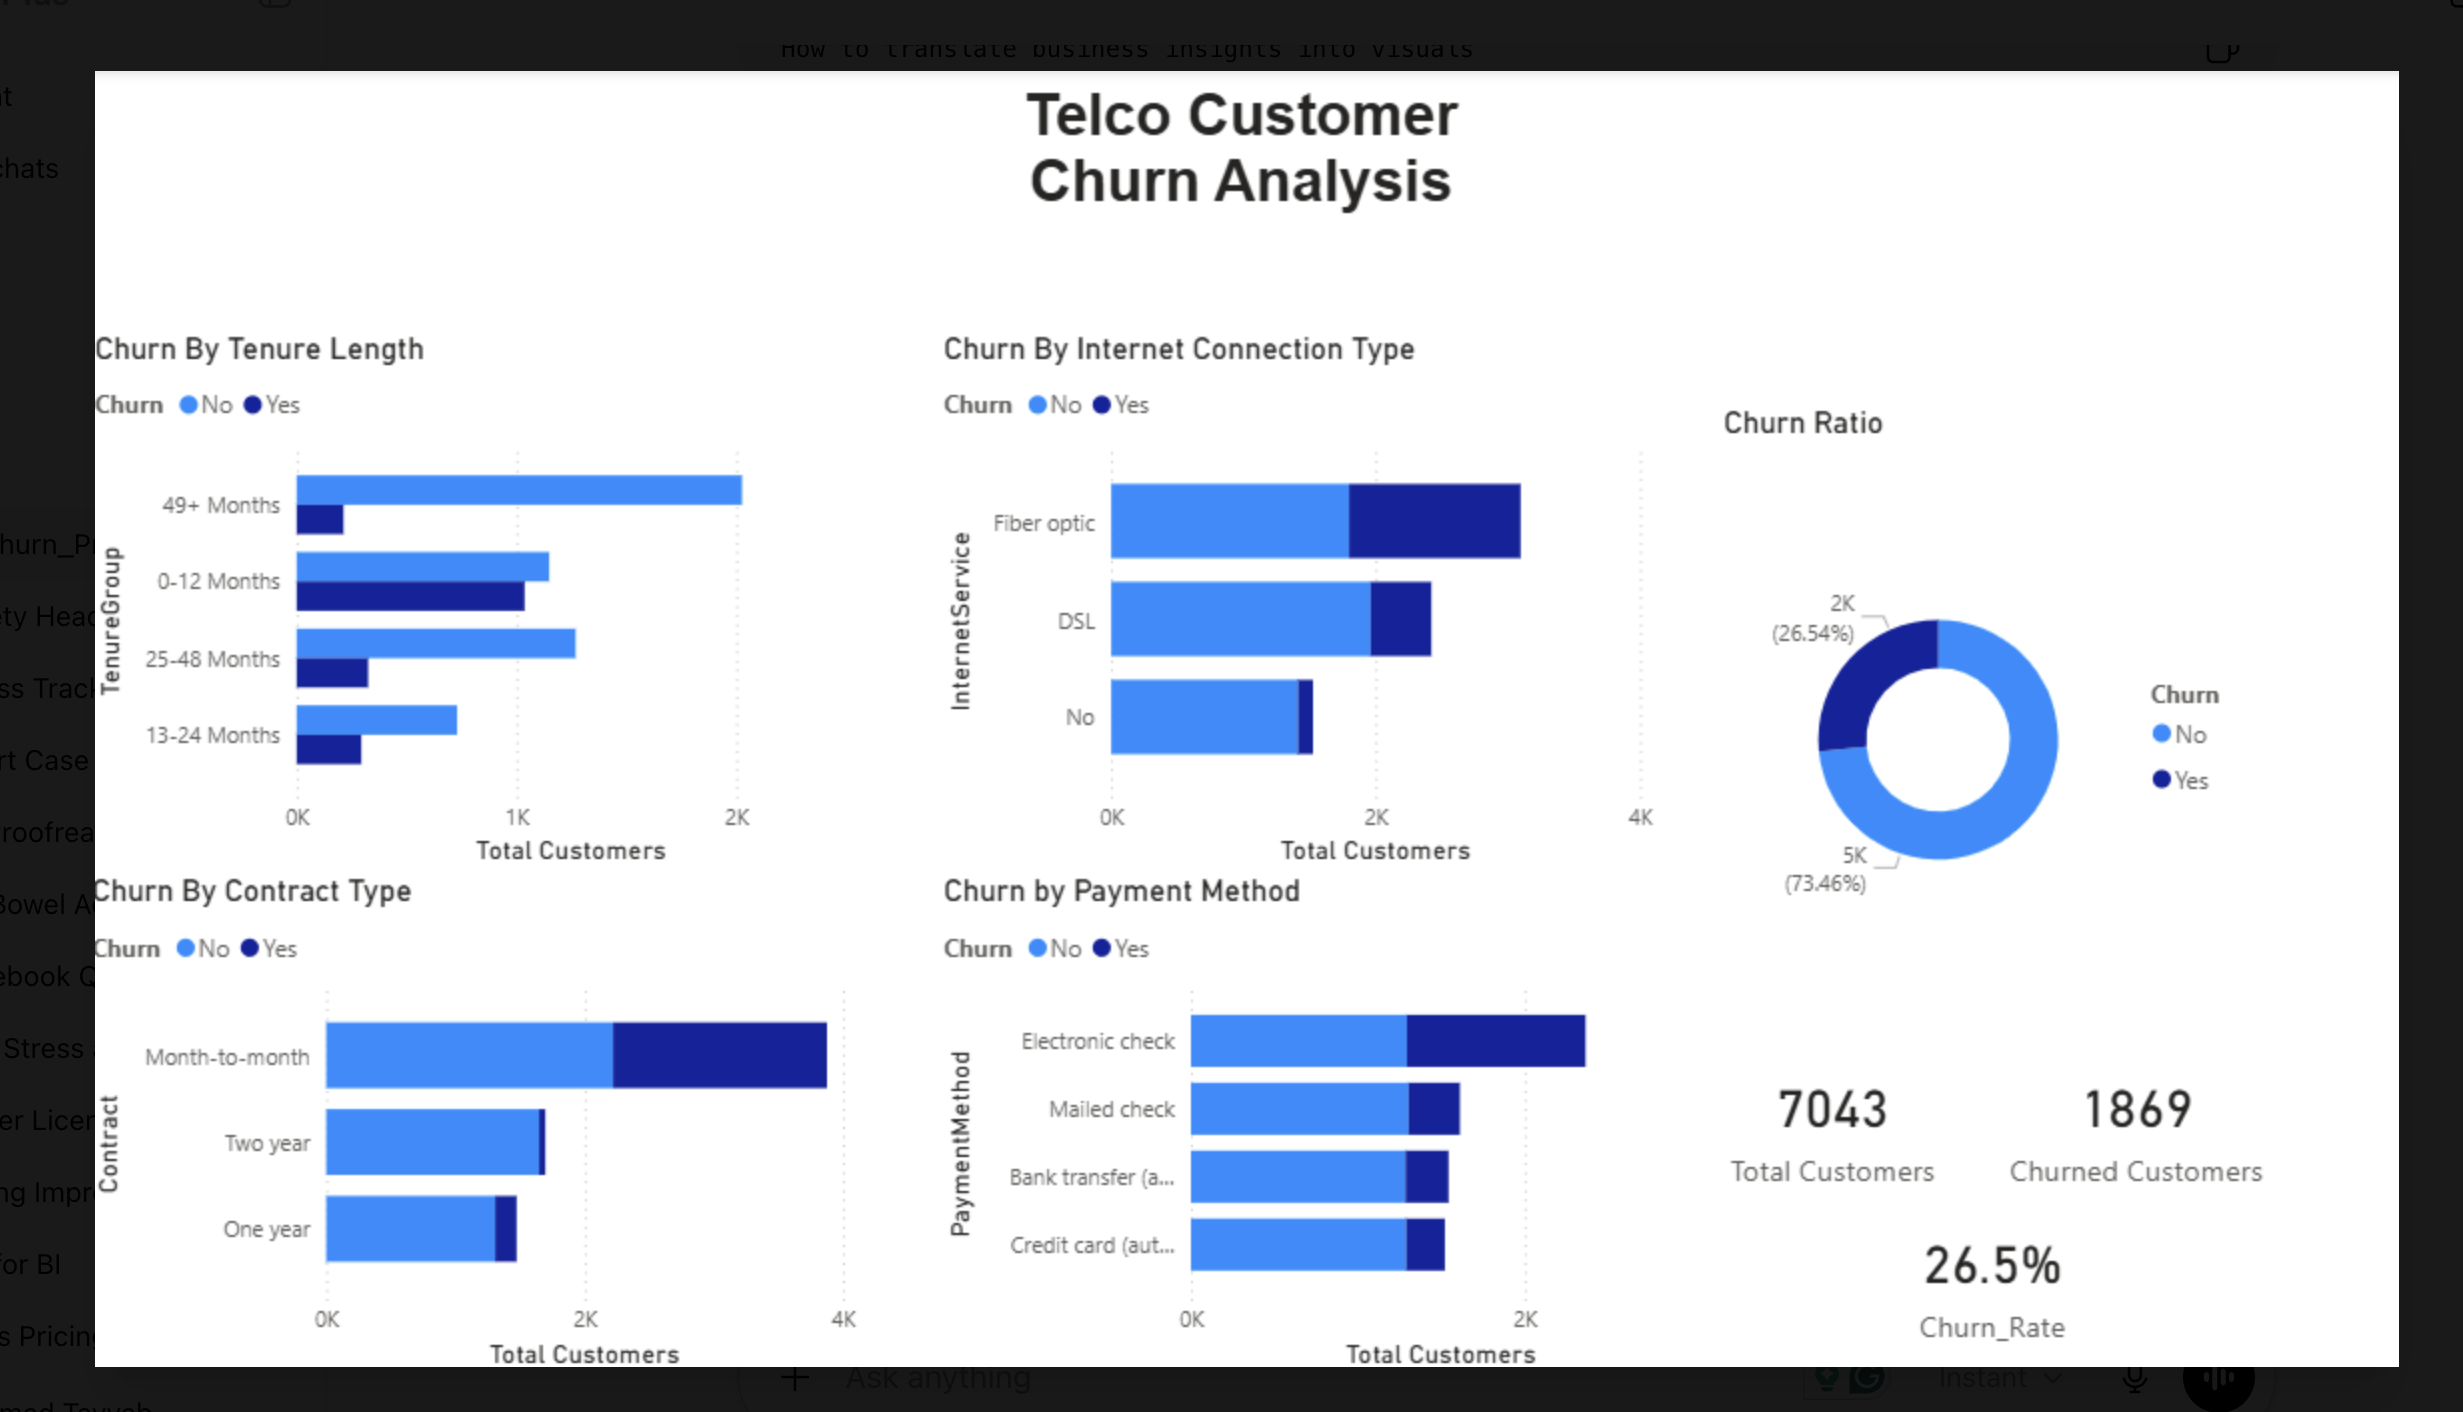

What the dashboard file says about the page in this screenshot:
{"tool":"powerbi","page":{"name":"Customer Churn Analysis","canvas":[1280,720],"ordinal":0},"visuals":[{"type":"card","fields":{"Values":["Telco-Customer-Churn.Total Customers"]},"box":[893.2,522.5,145.8,121.5],"z":0},{"type":"card","fields":{"Values":["Telco-Customer-Churn.Churned Customers"]},"box":[1053.2,534.7,160,95.2],"z":1},{"type":"card","fields":{"Values":["Telco-Customer-Churn.Churn_Rate"]},"box":[974.2,615.7,160,105.3],"z":2},{"type":"donutChart","title":"Churn Ratio","fields":{"Category":["Telco-Customer-Churn.Churn"],"Y":["Telco-Customer-Churn.Total Customers"]},"box":[901.3,186.3,303.8,348.4],"z":3},{"type":"barChart","title":"Churn By Contract Type","fields":{"Category":["Telco-Customer-Churn.Contract"],"Series":["Telco-Customer-Churn.Churn"],"Y":["Telco-Customer-Churn.Total Customers"]},"box":[0,443.5,431.4,277.5],"z":4},{"type":"barChart","title":"Churn  by Payment Method","fields":{"Category":["Telco-Customer-Churn.PaymentMethod"],"Series":["Telco-Customer-Churn.Churn"],"Y":["Telco-Customer-Churn.Total Customers"]},"box":[469.9,443.5,429.4,277.5],"z":5},{"type":"barChart","title":"Churn By Internet Connection Type","fields":{"Category":["Telco-Customer-Churn.InternetService"],"Series":["Telco-Customer-Churn.Churn"],"Y":["Telco-Customer-Churn.Total Customers"]},"box":[469.9,143.8,401,299.7],"z":6},{"type":"clusteredBarChart","title":"Churn By Tenure Length","fields":{"Category":["Telco-Customer-Churn.TenureGroup"],"Series":["Telco-Customer-Churn.Churn"],"Y":["Telco-Customer-Churn.Total Customers"]},"box":[2,143.8,431.4,299.7],"z":7},{"type":"textbox","box":[512.4,2,255.2,121.5],"z":10}]}

Visuals, with their boxes on the page's 1280x720 design canvas (x1, y1, x2, y2). These are canvas units, not pixel positions in the 2463x1412 screenshot, which may show the page scaled, cropped or inside an application window:
card - Telco-Customer-Churn.Total Customers: (left=893, top=522, right=1039, bottom=644)
card - Telco-Customer-Churn.Churned Customers: (left=1053, top=535, right=1213, bottom=630)
card - Telco-Customer-Churn.Churn_Rate: (left=974, top=616, right=1134, bottom=721)
"Churn Ratio" donutChart: (left=901, top=186, right=1205, bottom=535)
"Churn By Contract Type" barChart: (left=0, top=444, right=431, bottom=721)
"Churn  by Payment Method" barChart: (left=470, top=444, right=899, bottom=721)
"Churn By Internet Connection Type" barChart: (left=470, top=144, right=871, bottom=444)
"Churn By Tenure Length" clusteredBarChart: (left=2, top=144, right=433, bottom=444)
textbox: (left=512, top=2, right=768, bottom=124)
